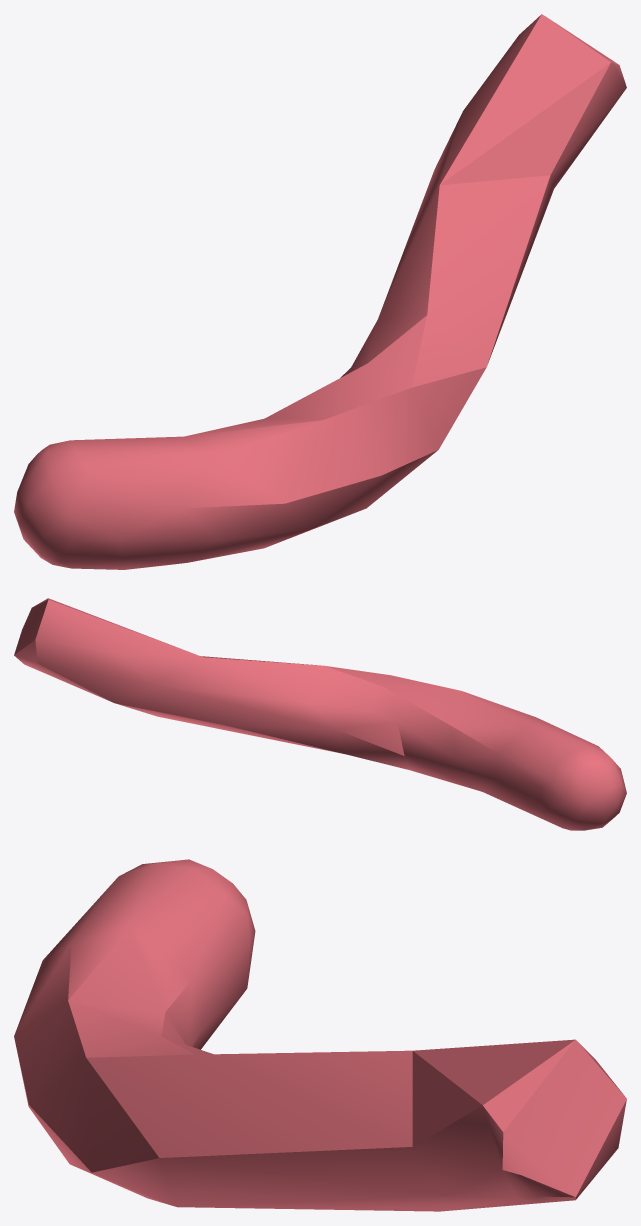
Rendered from fma14826_fj3494.glb.
3 views of the same model, one above another, from view 1: azimuth 30°, elevation 25°; view 2: azimuth 150°, elevation 25°; view 3: azimuth 270°, elevation 25° (orthographic). The views are drawn at different scales.
Visible parts, largest first — view 1: FMA14826_FJ3494; view 2: FMA14826_FJ3494; view 3: FMA14826_FJ3494.
Part boxes in pixels (bbox=[...]): FMA14826_FJ3494: bbox=[14, 14, 626, 569]; FMA14826_FJ3494: bbox=[14, 598, 626, 830]; FMA14826_FJ3494: bbox=[14, 859, 626, 1211].
Size of the model in its own units: 0.0188 by 0.0072 by 0.0101.
